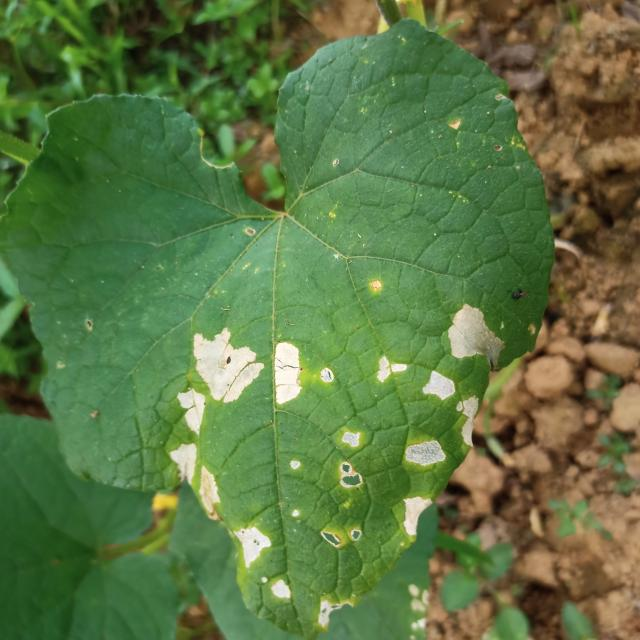disease_cucumber: (195, 328, 304, 404), (234, 526, 296, 600), (424, 372, 477, 448), (170, 442, 223, 513), (445, 304, 504, 366), (336, 431, 365, 489), (399, 438, 447, 470), (177, 387, 206, 436), (400, 494, 431, 534), (377, 355, 408, 389)
